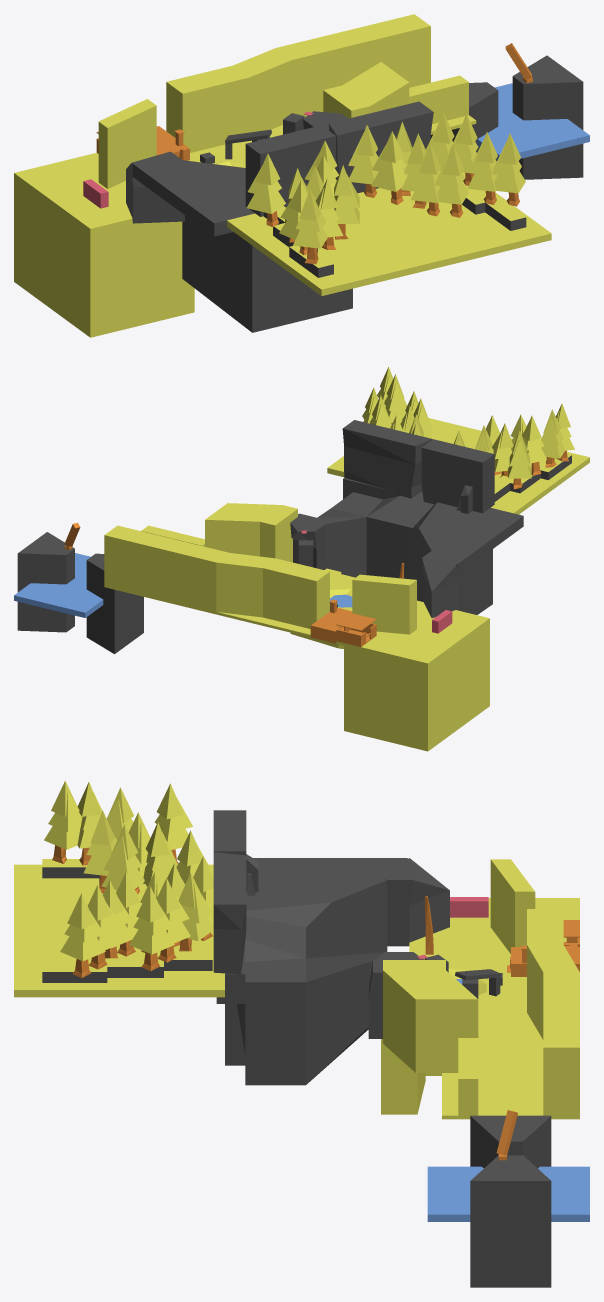
The model's file is forest.glb.
3 renders of one model, top to bottom at view 1: azimuth 30°, elevation 25°; view 2: azimuth 150°, elevation 25°; view 3: azimuth 270°, elevation 25°, orthographic. The views are drawn at different scales.
Parts seen in each view (by area): view 1: PoolArea-col; view 2: PoolArea-col; view 3: PoolArea-col.
Boxes of the visible parts, bbox=[...] form: PoolArea-col: bbox=[14, 14, 589, 337]; PoolArea-col: bbox=[14, 367, 589, 751]; PoolArea-col: bbox=[14, 781, 589, 1287].
Size of the model in its own units: 330 by 149 by 284.
